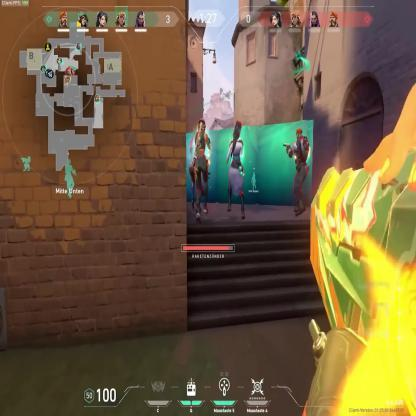enemy: (285, 125, 309, 219), (225, 120, 246, 220), (194, 118, 212, 220), (190, 130, 202, 212)
enemy_head: (198, 118, 205, 134), (233, 124, 240, 138), (296, 128, 302, 142)
